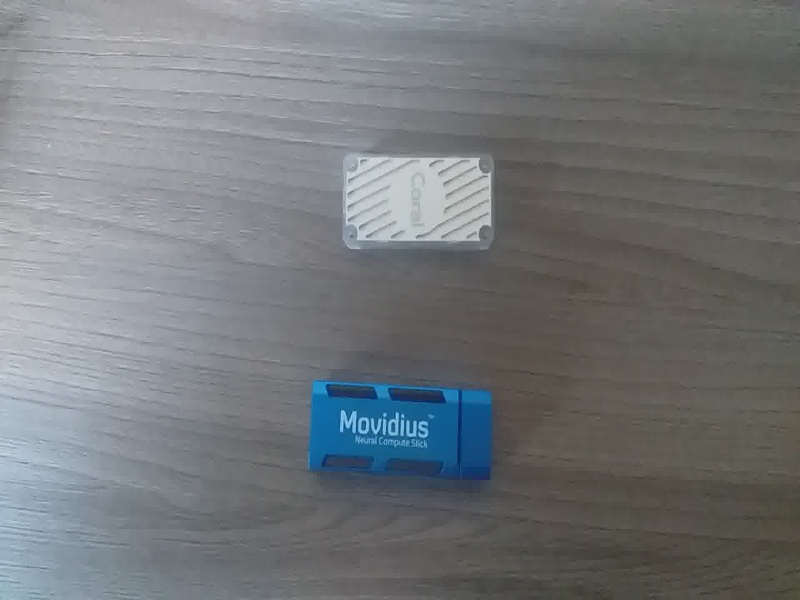coral: (336, 147, 500, 255)
movidius: (301, 373, 502, 487)
